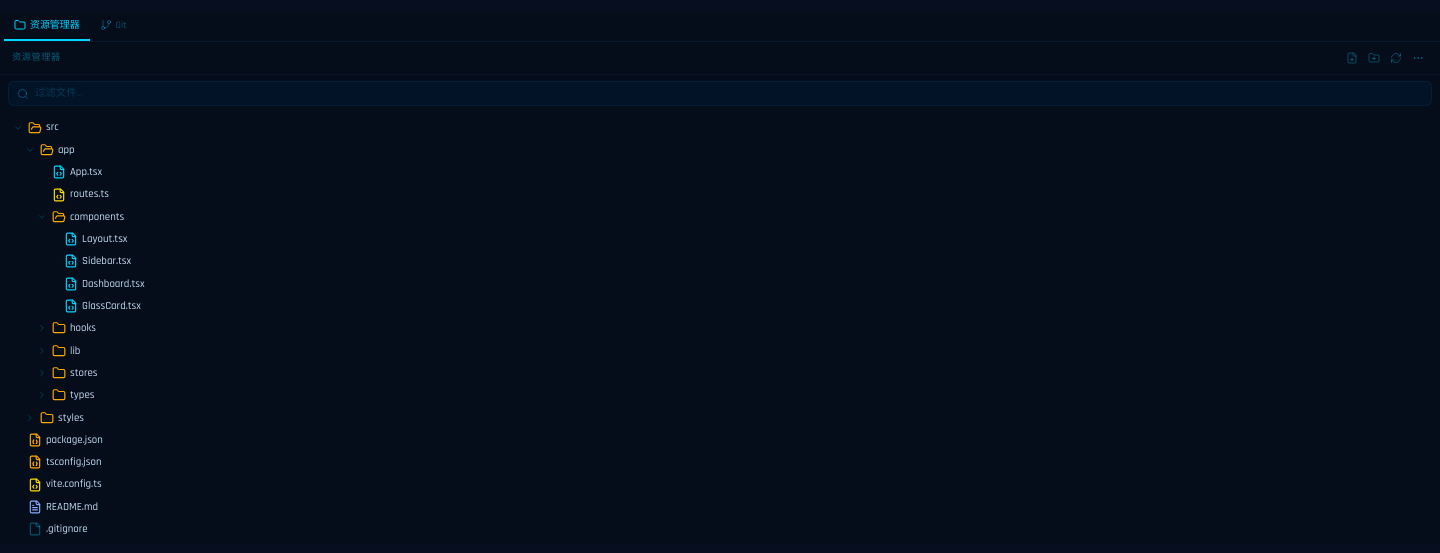
it: FileExplorer › 右键菜单 › 文件夹右键额外显示 新建文件/新建文件夹
Right-click the button "hooks" at (42, 328), box [4,317,1436,340]
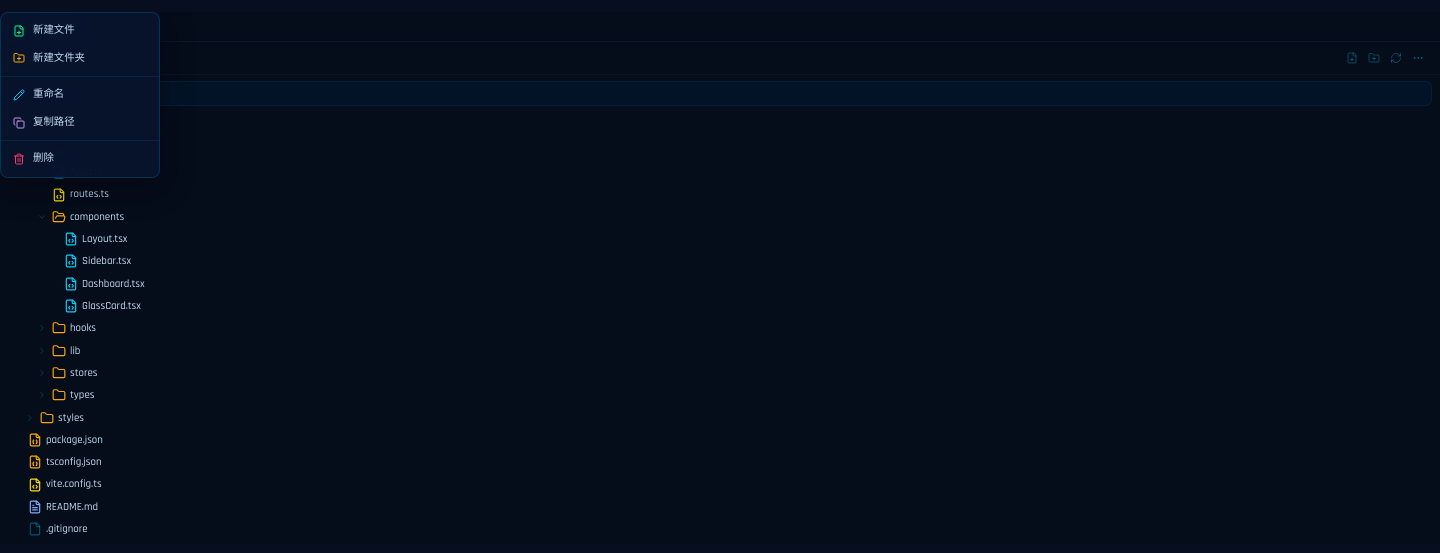
Now the text "新建文件" is shown, box [33,23,75,39]
Now the text "新建文件夹" is shown, box [33,51,85,66]
